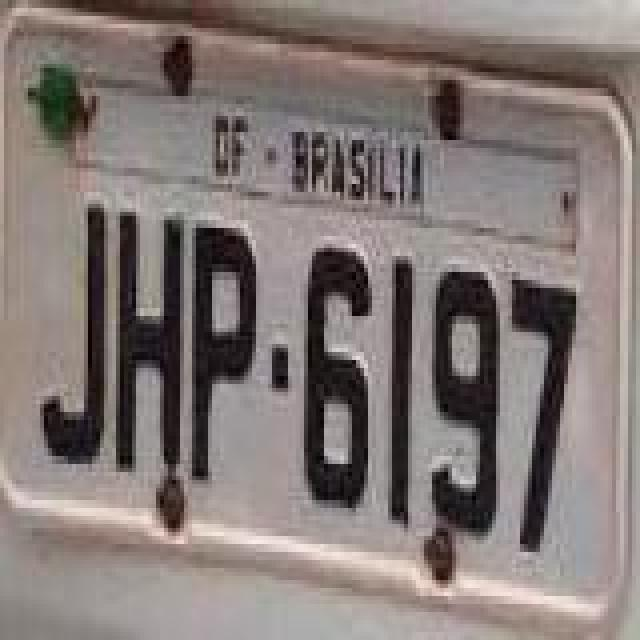1: (388, 252, 412, 532)
6: (300, 244, 372, 508)
7: (508, 272, 580, 560)
9: (426, 264, 502, 544)
H: (116, 208, 188, 480)
J: (36, 196, 108, 468)
P: (190, 220, 258, 484)
